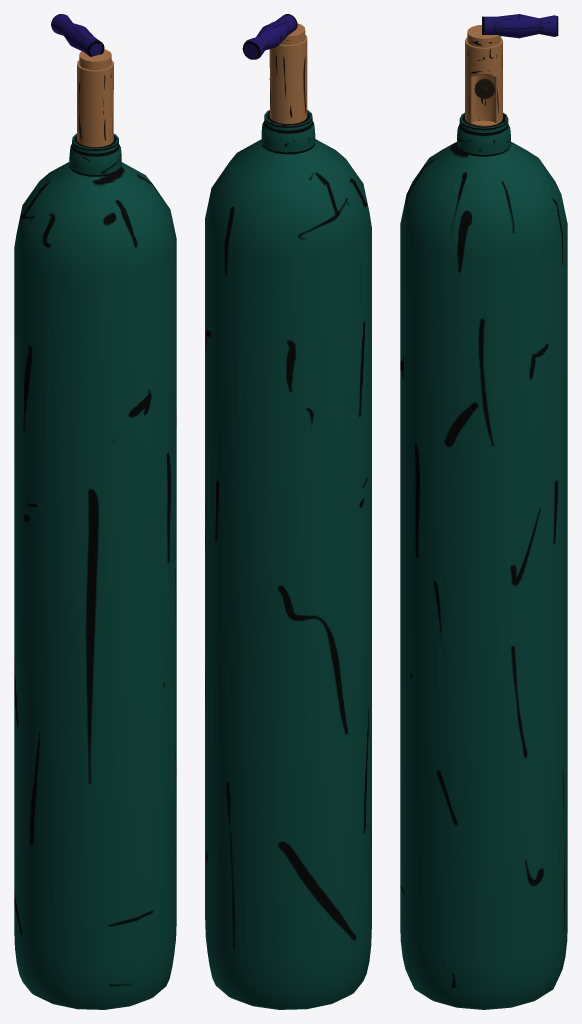
File: SM_OxygenTank.fbx
3 views of the same model, side by side, from view 1: azimuth 30°, elevation 25°; view 2: azimuth 150°, elevation 25°; view 3: azimuth 270°, elevation 25° (orthographic). The views are drawn at different scales.
Parts seen in each view (by area): view 1: SM_OxygenTank; view 2: SM_OxygenTank; view 3: SM_OxygenTank.
Part boxes in pixels (bbox=[...]): SM_OxygenTank: bbox=[14, 14, 176, 1009]; SM_OxygenTank: bbox=[205, 14, 371, 1009]; SM_OxygenTank: bbox=[400, 14, 567, 1009].
Size of the model in its own units: 34.97 by 222 by 34.97.
